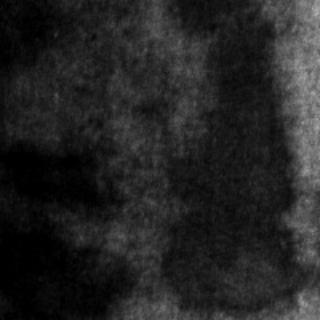patches: (155, 2, 307, 312), (0, 212, 132, 312), (0, 115, 120, 212), (0, 0, 66, 76)
